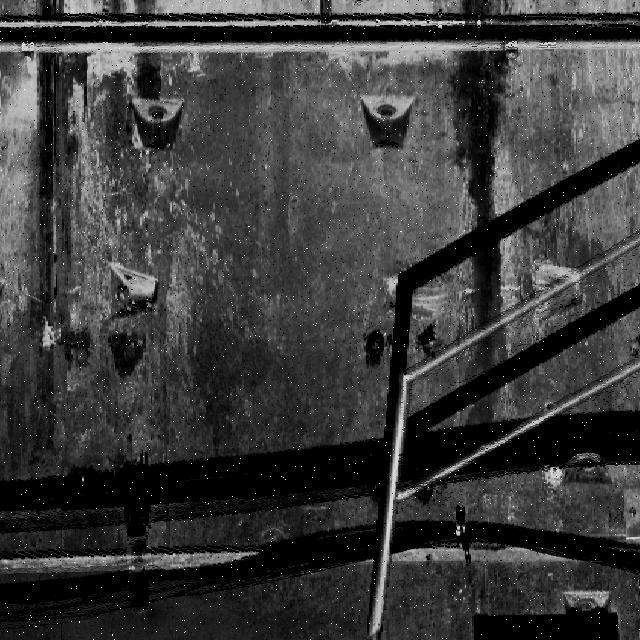leakage: (450, 0, 519, 426), (27, 0, 93, 293), (129, 0, 166, 102)
